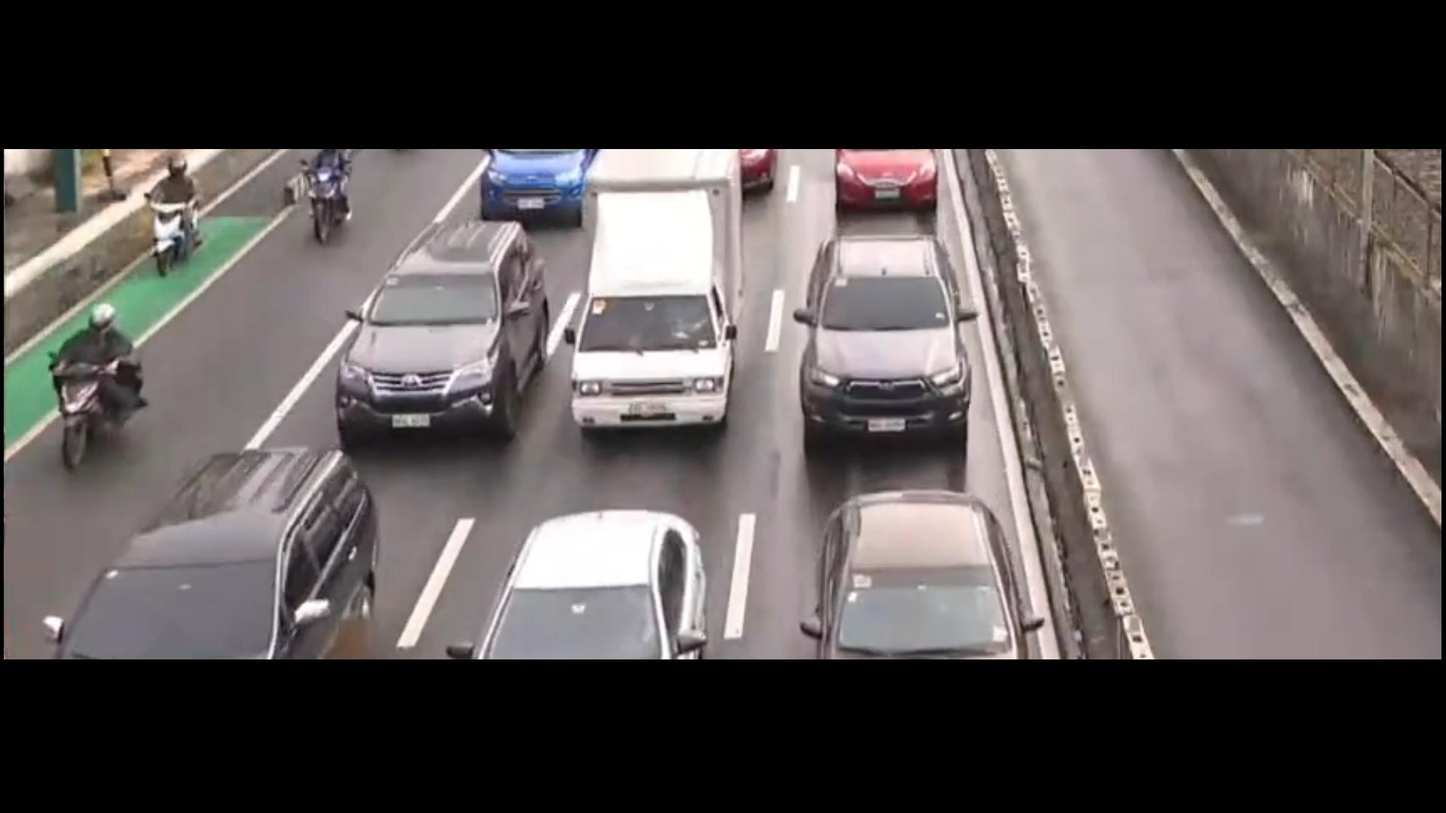Motorcycle: (36, 299, 151, 463), (136, 147, 205, 284), (303, 147, 362, 245)
SUV: (43, 452, 371, 661), (333, 220, 544, 440), (800, 235, 968, 444)
Sedan: (804, 476, 1032, 653), (452, 516, 715, 653)
Truck: (561, 156, 746, 433)
